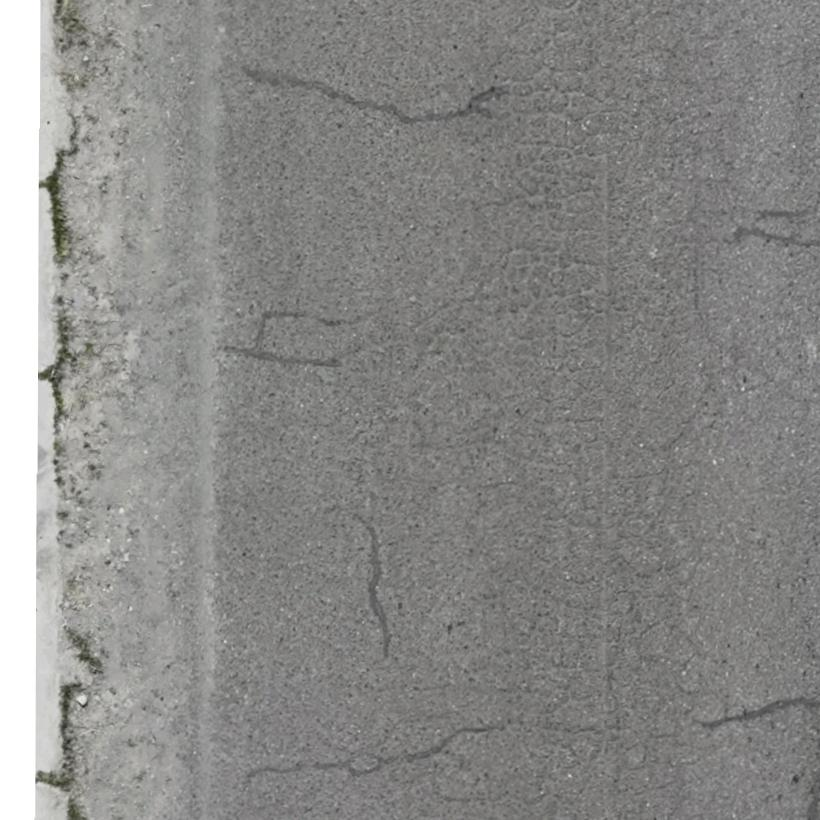GRIETA: (232, 727, 474, 797), (239, 63, 476, 126), (351, 513, 392, 663), (224, 346, 344, 367), (739, 697, 819, 722), (749, 202, 819, 230), (732, 227, 819, 247), (265, 311, 372, 326), (252, 313, 266, 351)
PIEL DE COCODRILO: (369, 0, 762, 819)
